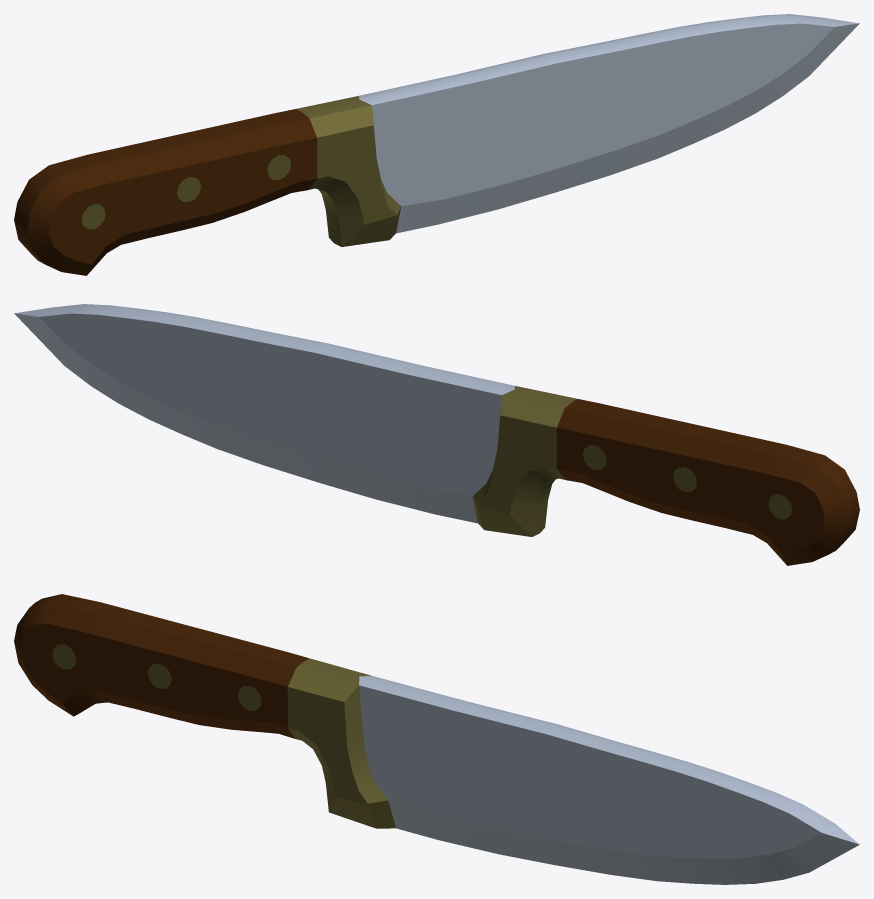
File: Knife.fbx
3 renders of one model, top to bottom at view 1: azimuth 30°, elevation 25°; view 2: azimuth 150°, elevation 25°; view 3: azimuth 330°, elevation 25°, orthographic.
Parts seen in each view (by area): view 1: Knife_Model; view 2: Knife_Model; view 3: Knife_Model.
Boxes of the visible parts, x1,y1,x2,y2 form: Knife_Model: [14, 14, 859, 275]; Knife_Model: [14, 304, 859, 565]; Knife_Model: [14, 594, 859, 884].
Size of the model in its own units: 1249 by 213 by 75.59.
